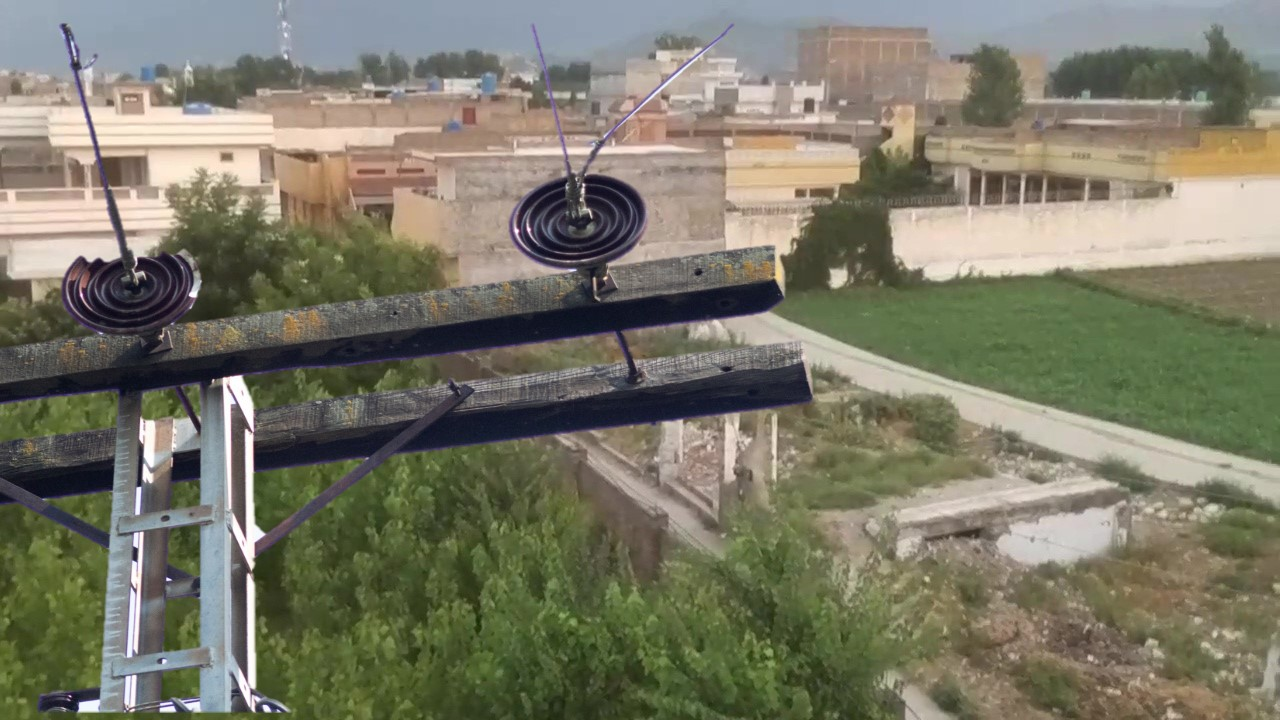defect_disc: (55, 239, 218, 347)
insulator_disc: (509, 169, 656, 276)
